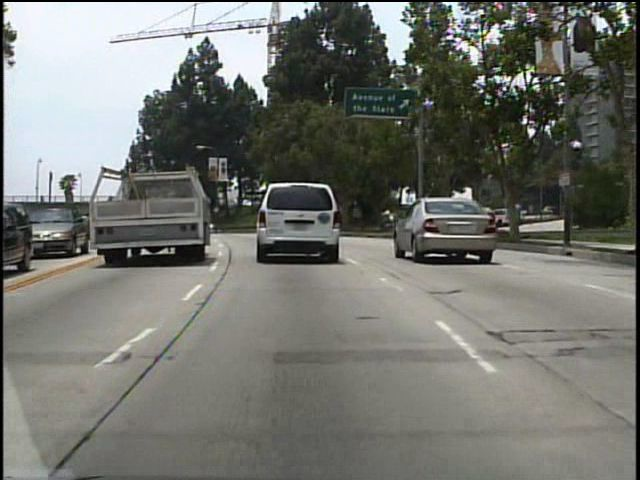person: (503, 192, 526, 242)
